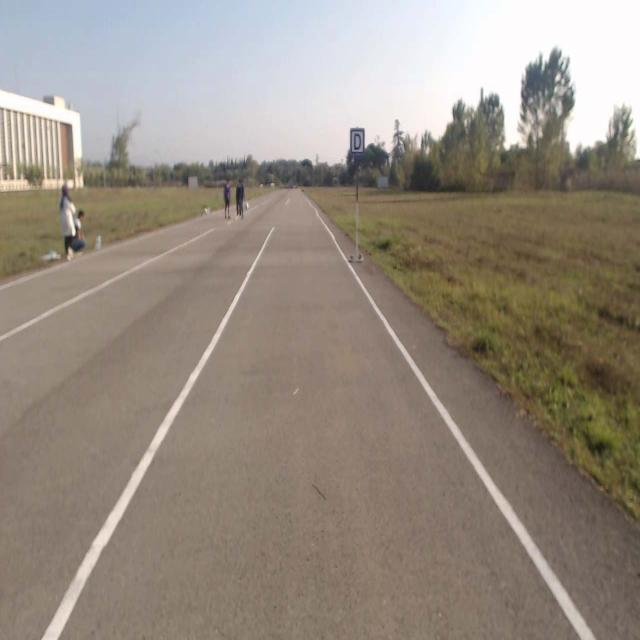durak: (350, 128, 364, 154)
